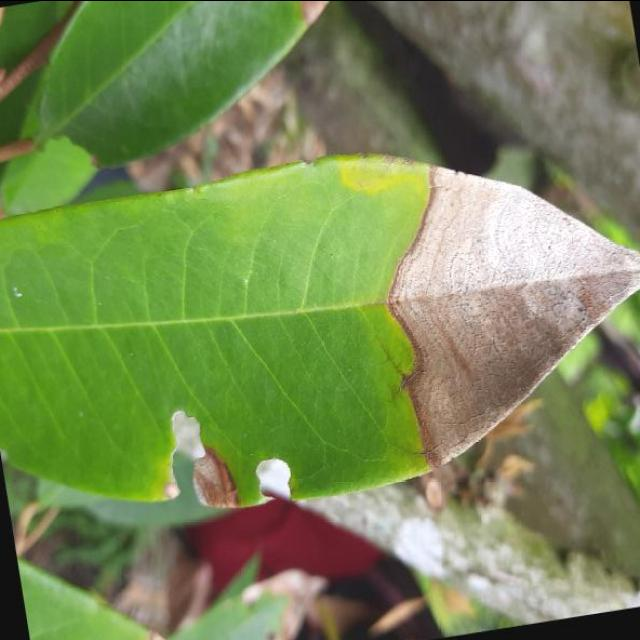Leaf Blight: (0, 106, 640, 558)
